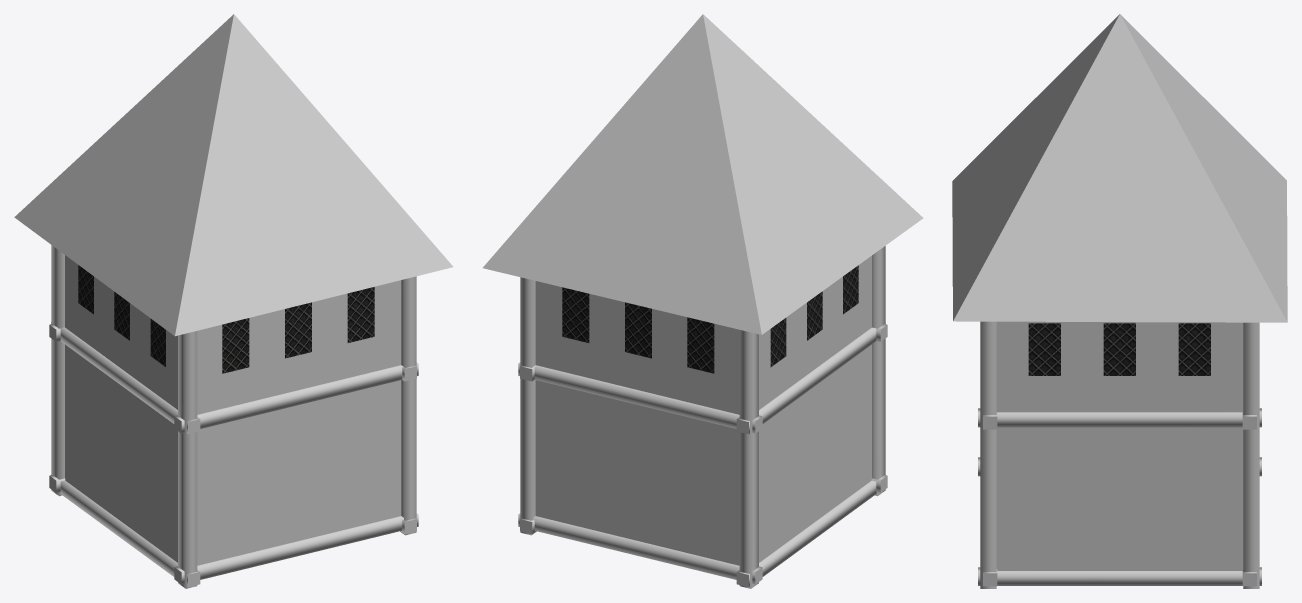
Rendered from Tower_top3_LOD2.fbx.
3 renders of one model, left to right at view 1: azimuth 30°, elevation 25°; view 2: azimuth 150°, elevation 25°; view 3: azimuth 270°, elevation 25°, orthographic. The views are drawn at different scales.
Parts seen in each view (by area): view 1: polySurface2362; view 2: polySurface2362; view 3: polySurface2362.
Part boxes in pixels (x1,y1,x2,y2): polySurface2362: (14,14,453,588); polySurface2362: (483,14,923,588); polySurface2362: (952,14,1287,588).
Bounding box in the file's own units: 8.94 × 15.19 × 8.94.
